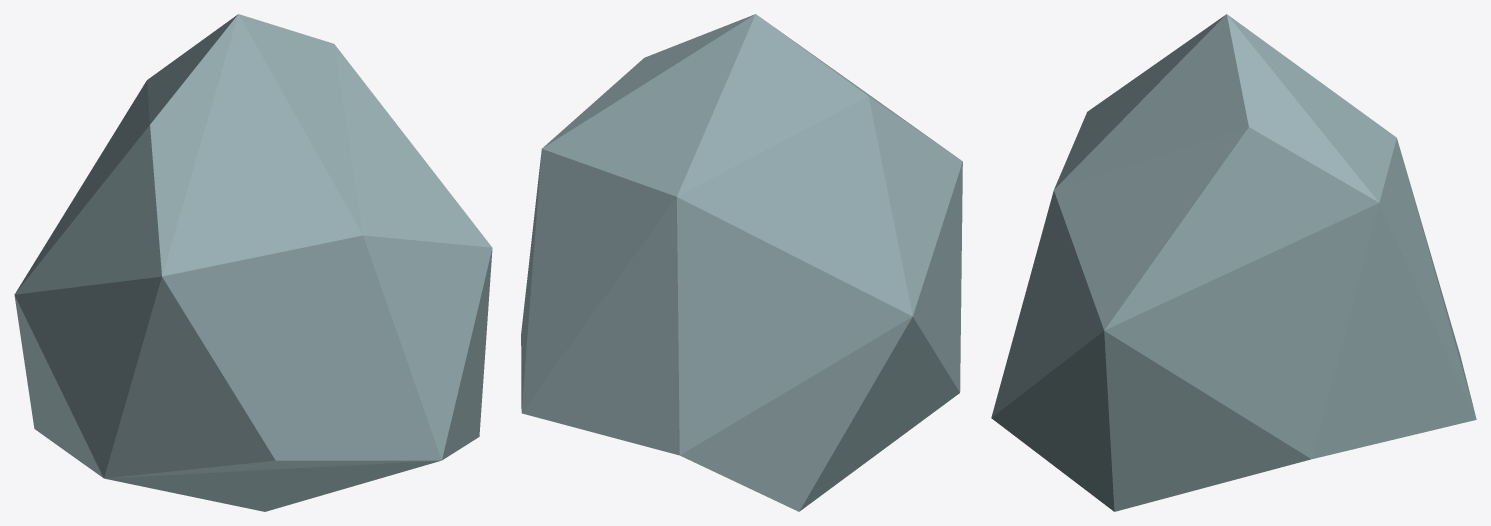
File: Dandelion_Roc1_Clair.FBX
3 renders of one model, left to right at view 1: azimuth 30°, elevation 25°; view 2: azimuth 150°, elevation 25°; view 3: azimuth 270°, elevation 25°, orthographic. The views are drawn at different scales.
Visible parts, largest first — view 1: GeoSphere012; view 2: GeoSphere012; view 3: GeoSphere012.
Part boxes in pixels (box(x1,y1,x2,y2)): GeoSphere012: box(14, 14, 492, 511); GeoSphere012: box(521, 14, 962, 511); GeoSphere012: box(991, 14, 1476, 511).
Bounding box in the file's own units: 272 × 316 × 294.
